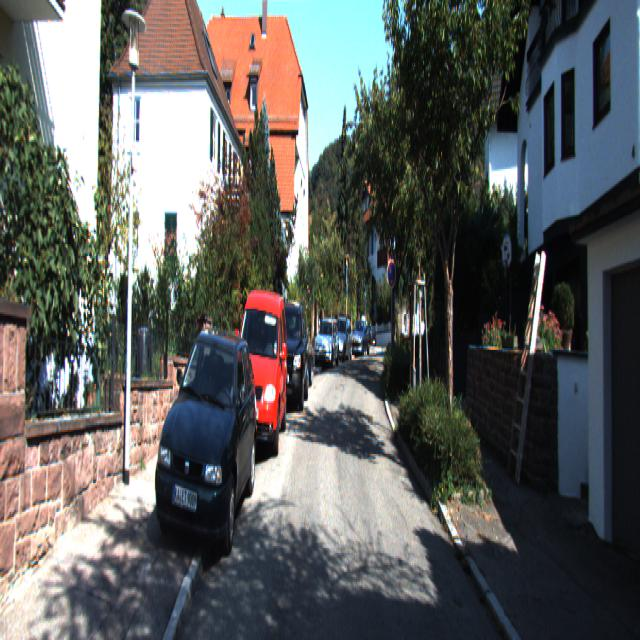Car: (149, 317, 258, 574), (229, 279, 288, 463), (268, 297, 308, 416), (314, 315, 340, 371)
